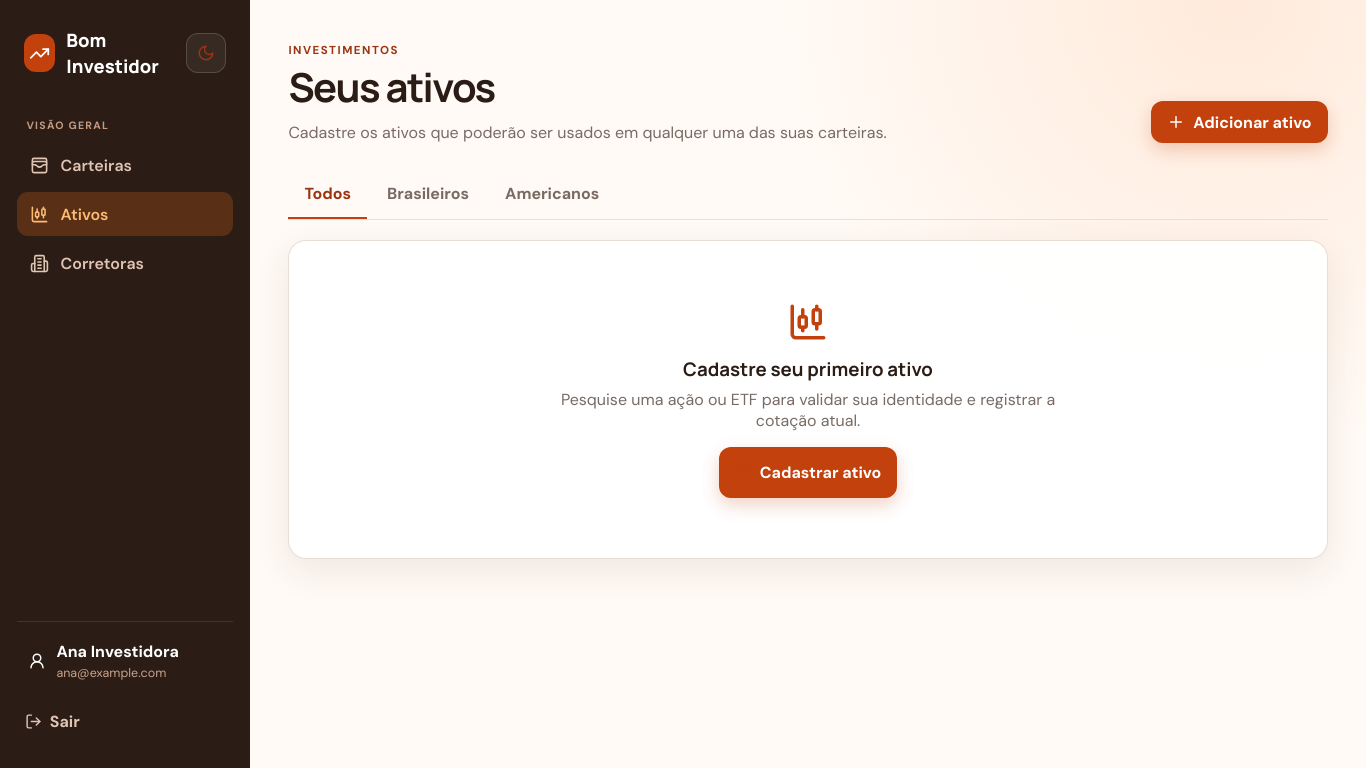
Test: a marca leva o investidor de volta à visão geral
The image size is (1366, 768).
Expected: the heading "Seus ativos" is shown, [288,59,495,114]
Click the link with aria-label "Voltar à visão geral": click(101, 53) [24,27,178,79]
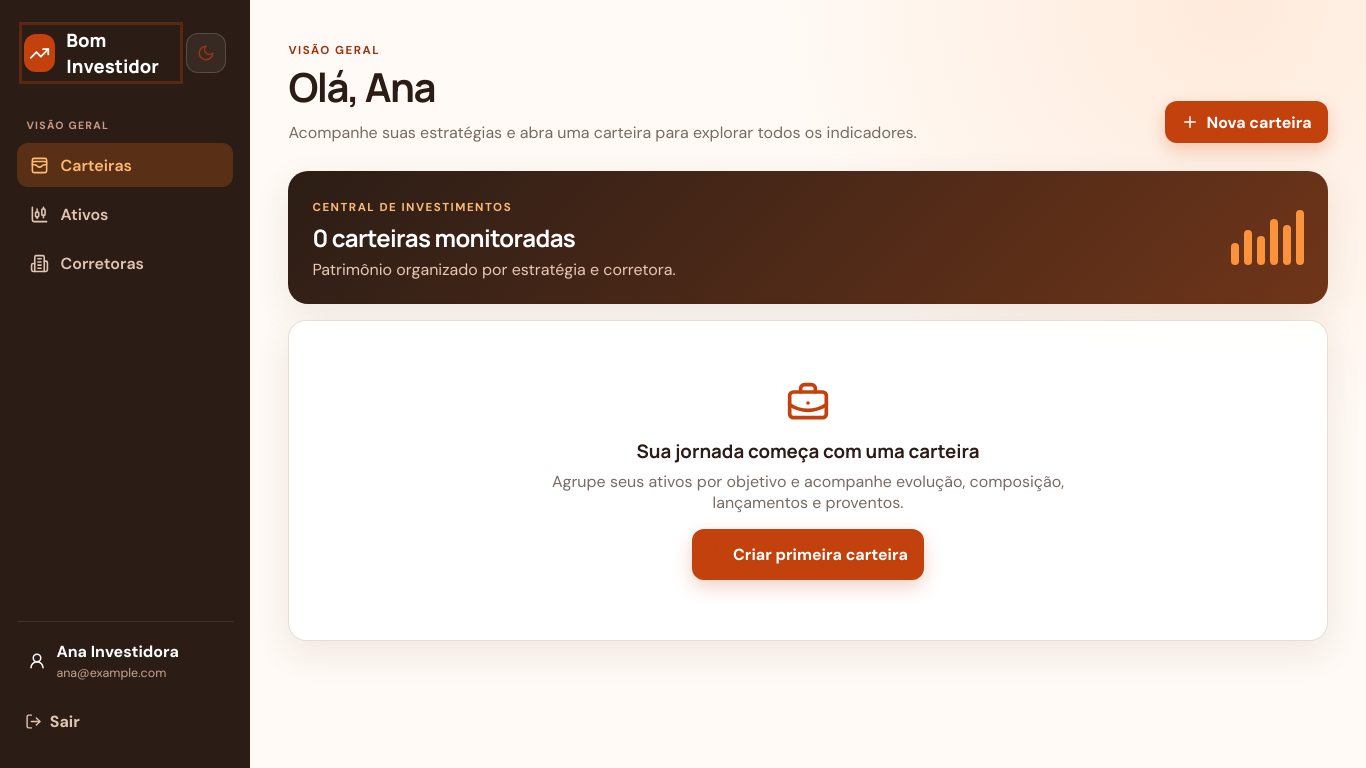
Now the heading "Olá, Ana" is shown, box [288,59,435,114]
